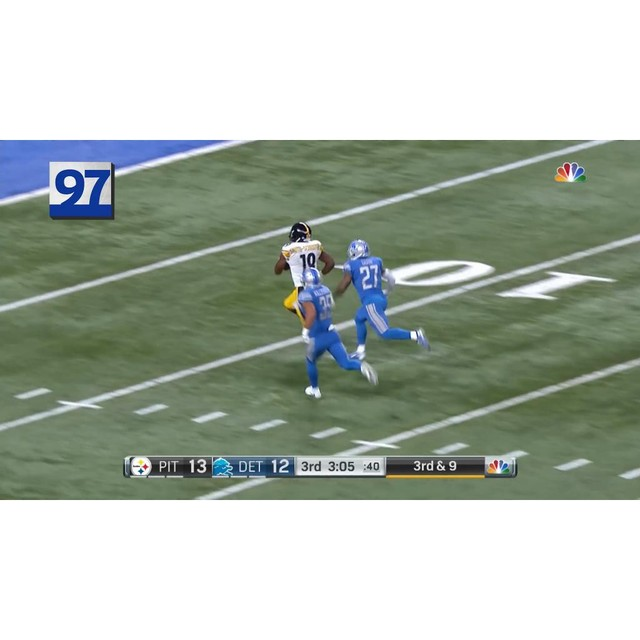american-football-player: (292, 266, 375, 399), (338, 239, 428, 361), (274, 222, 334, 333)
